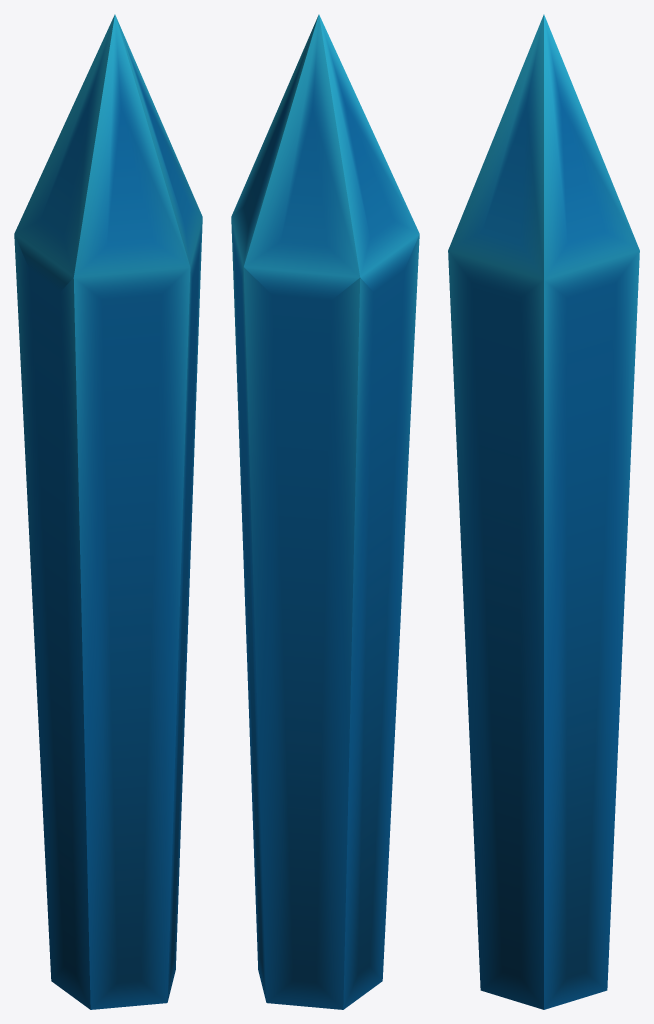
Rendered from Prop_Crystals_Blue.fbx.
The picture shows the model from 3 angles, left to right: view 1: azimuth 30°, elevation 25°; view 2: azimuth 150°, elevation 25°; view 3: azimuth 270°, elevation 25°; orthographic projection.
Visible parts, largest first — view 1: Prop_Crystals_Blue; view 2: Prop_Crystals_Blue; view 3: Prop_Crystals_Blue.
Part boxes in pixels (x1=…): Prop_Crystals_Blue: x1=14, y1=14, x2=202, y2=1009; Prop_Crystals_Blue: x1=231, y1=14, x2=419, y2=1009; Prop_Crystals_Blue: x1=448, y1=14, x2=639, y2=1009.
Bounding box in the file's own units: 20.56 × 120 × 21.62.
Materials: 1 (1 with a texture image).
